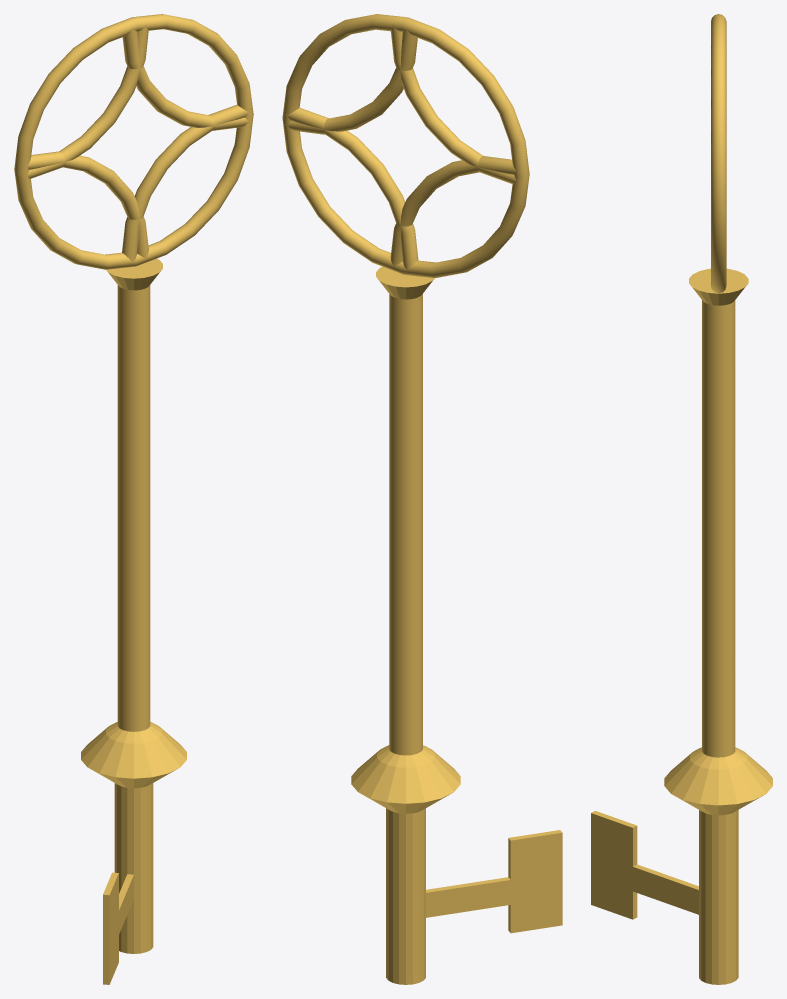
File: KEY2.fbx
The picture shows the model from 3 angles, left to right: view 1: azimuth 30°, elevation 25°; view 2: azimuth 150°, elevation 25°; view 3: azimuth 270°, elevation 25°; orthographic projection. The views are drawn at different scales.
Visible parts, largest first — view 1: 2LLAVE; view 2: 2LLAVE; view 3: 2LLAVE.
Boxes of the visible parts, <box> form: 2LLAVE: <box>14,14,253,984</box>; 2LLAVE: <box>282,14,562,984</box>; 2LLAVE: <box>591,14,772,984</box>.
Bounding box in the file's own units: 16.29 × 60.87 × 10.56.
